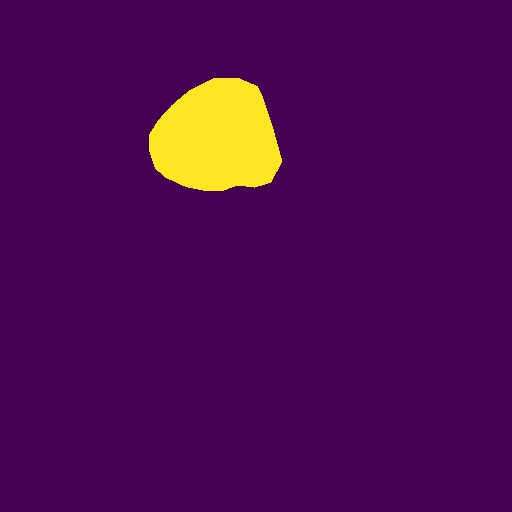Gliomia_tumour: (149, 78, 282, 191)
